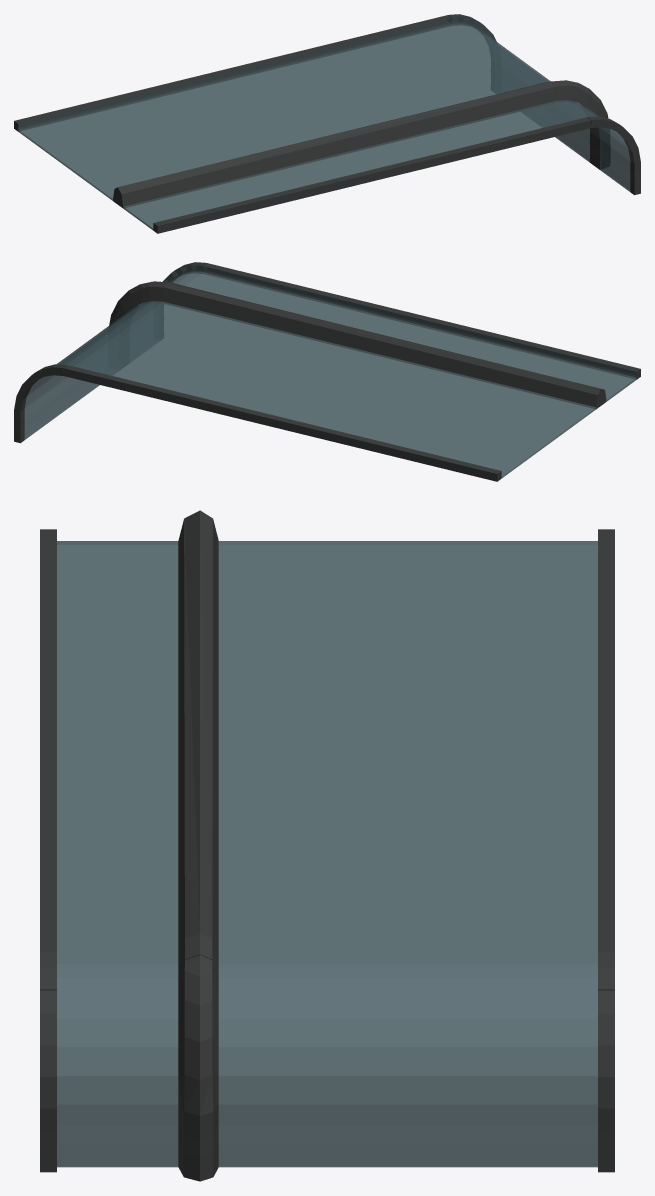
The model's file is Vidrio.fbx.
3 renders of one model, top to bottom at view 1: azimuth 30°, elevation 25°; view 2: azimuth 150°, elevation 25°; view 3: azimuth 270°, elevation 25°, orthographic. The views are drawn at different scales.
Parts seen in each view (by area): view 1: pCube1; view 2: pCube1; view 3: pCube1.
Part boxes in pixels (x1,y1,x2,y2): pCube1: (14,14,640,233); pCube1: (14,262,640,481); pCube1: (40,510,614,1181).
Size of the model in its own units: 19.18 by 3.54 by 9.68.
